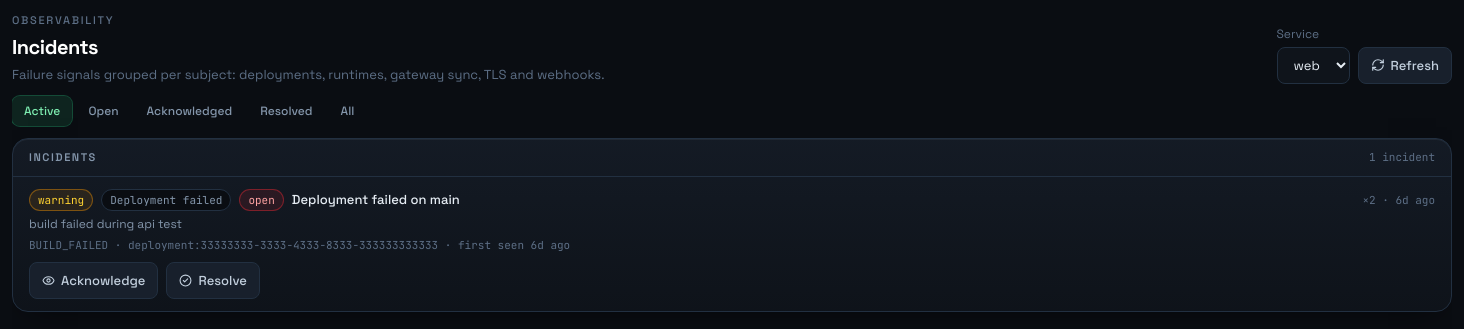
Scenario: IncidentsView › acknowledging an open incident updates it in place
Click the button with aria-label "Acknowledge incident": (94, 280) x1=29 y1=262 x2=158 y2=299
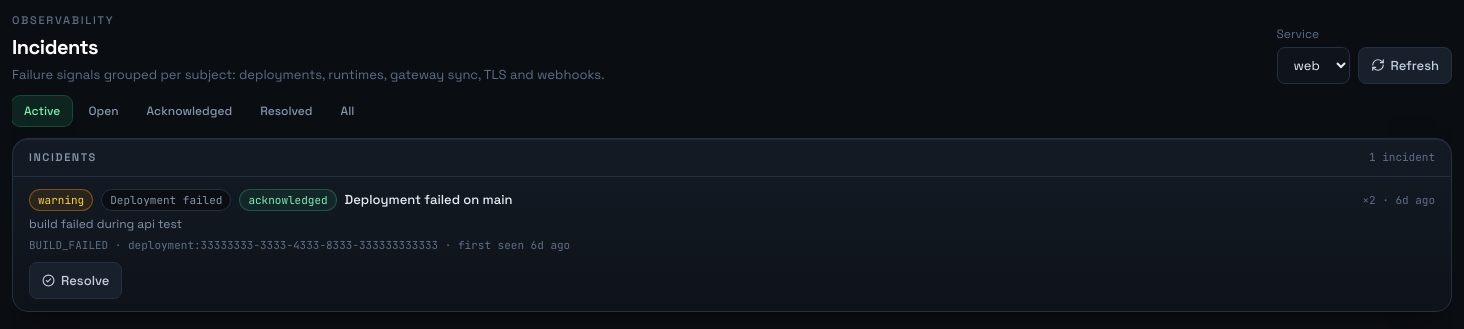
Check: the text "acknowledged" is shown, box x1=239 y1=188 x2=337 y2=211
